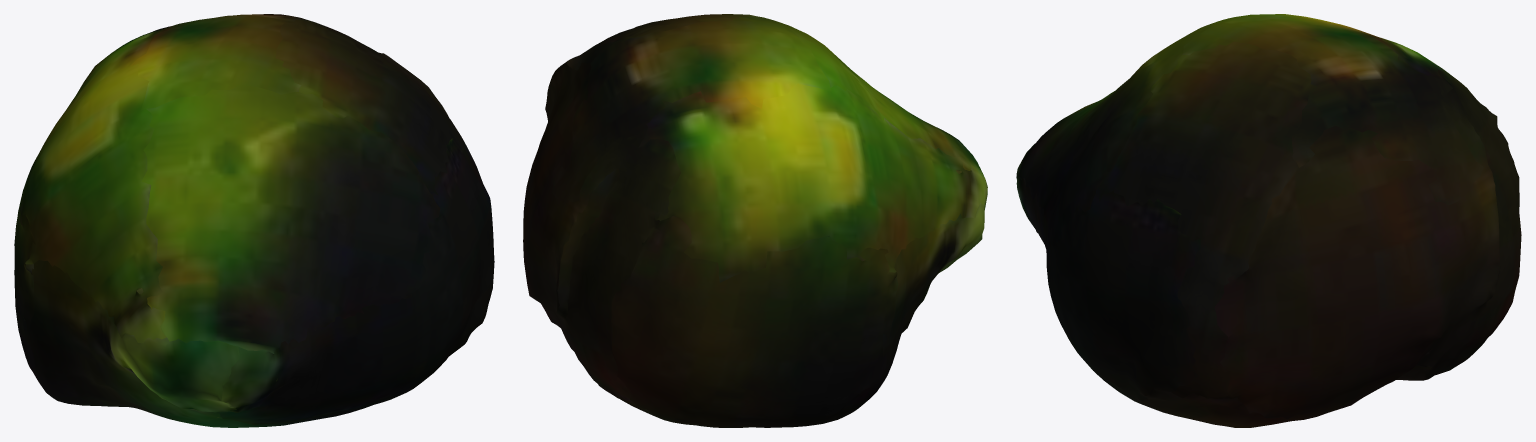
3 views of the same model, side by side, from view 1: azimuth 30°, elevation 25°; view 2: azimuth 150°, elevation 25°; view 3: azimuth 270°, elevation 25° (orthographic). The views are drawn at different scales.
Visible parts, largest first — view 1: world; view 2: world; view 3: world.
Part boxes in pixels (<box>): world: <box>14,14,494,427</box>; world: <box>523,14,987,427</box>; world: <box>1016,14,1521,427</box>.
Bounding box in the file's own units: 0.5046 × 0.4035 × 0.5375.
1 material, 1 textured.
